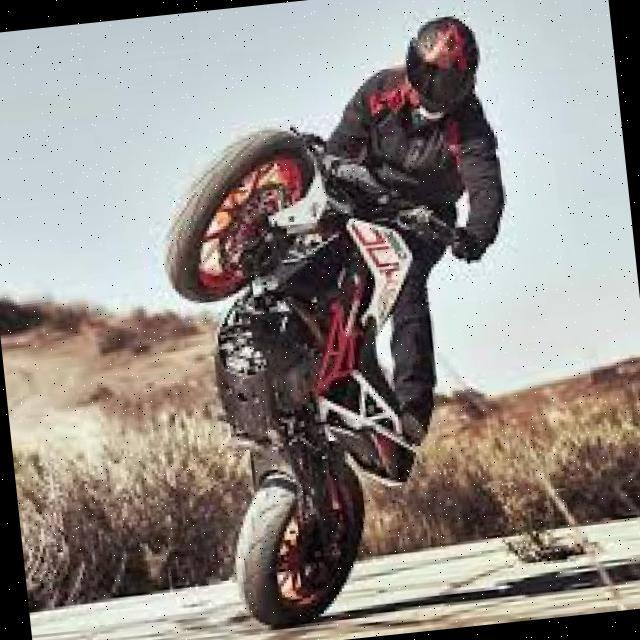Wheeling: (158, 0, 541, 635)
